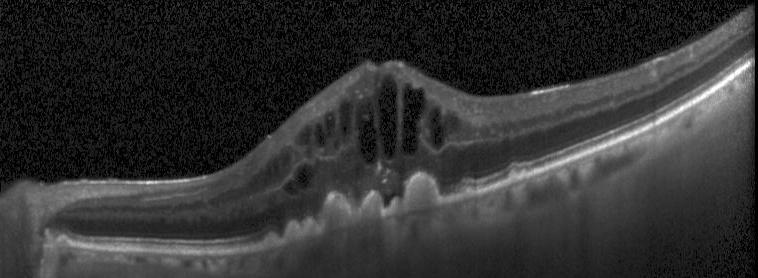intraretinal_cyst: (402, 85, 425, 153), (379, 78, 398, 160), (356, 104, 378, 163), (429, 108, 446, 149), (339, 103, 350, 140), (298, 168, 311, 187), (283, 181, 298, 197), (326, 112, 335, 137), (316, 124, 325, 145), (302, 126, 310, 143), (281, 154, 289, 167), (272, 162, 278, 178), (267, 167, 272, 180), (253, 177, 258, 188), (333, 142, 338, 150), (264, 177, 267, 186)
retinal_drusen: (407, 175, 437, 212), (324, 197, 350, 231), (360, 194, 381, 223), (301, 218, 318, 237), (388, 199, 404, 218), (264, 233, 280, 247), (286, 225, 300, 240), (55, 236, 70, 246), (509, 171, 520, 184), (461, 187, 472, 197), (522, 171, 531, 178)
